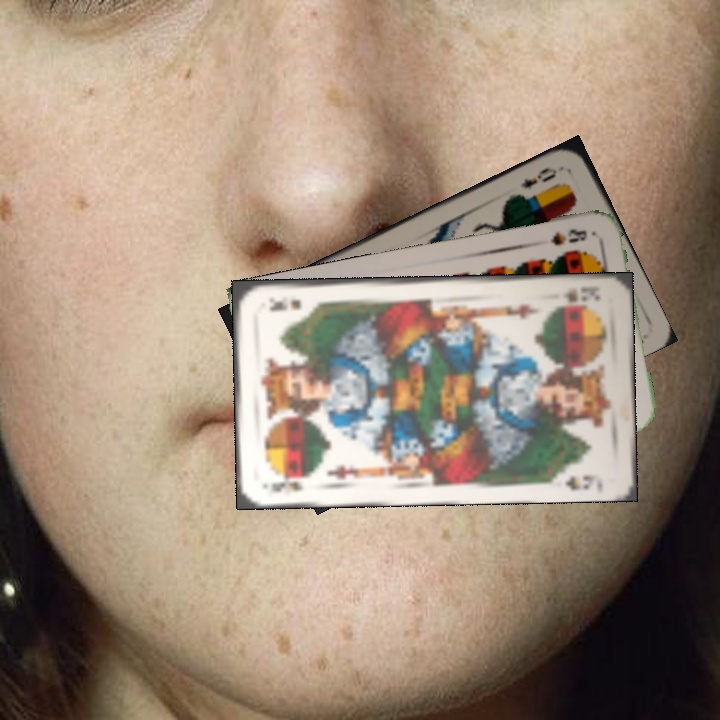EO: (516, 162, 566, 192)
S8: (547, 224, 590, 248)
SK: (558, 281, 603, 306), (266, 472, 313, 495)
